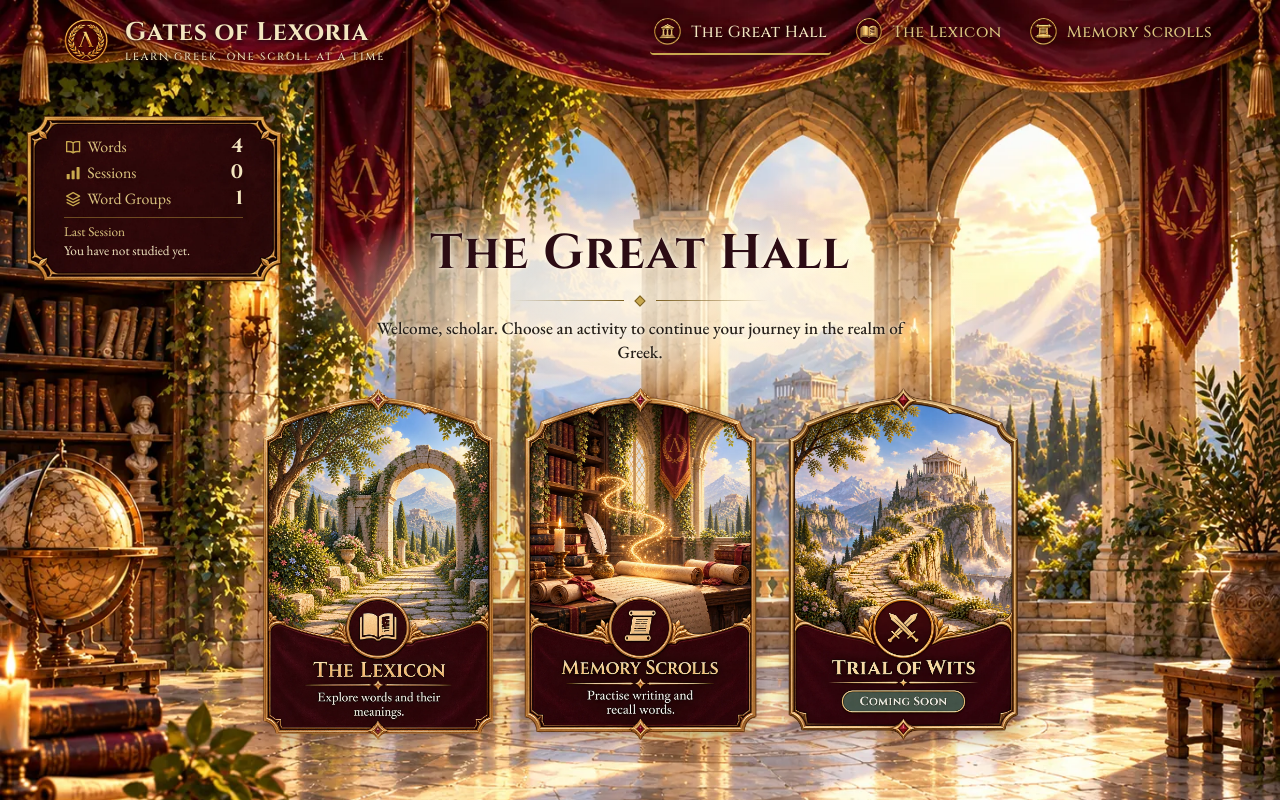
it: focus after navigation › moves focus to the new page heading when a link is clicked
Click the link "The Lexicon".
click(928, 32)  # box left=856, top=18, right=1002, bottom=45
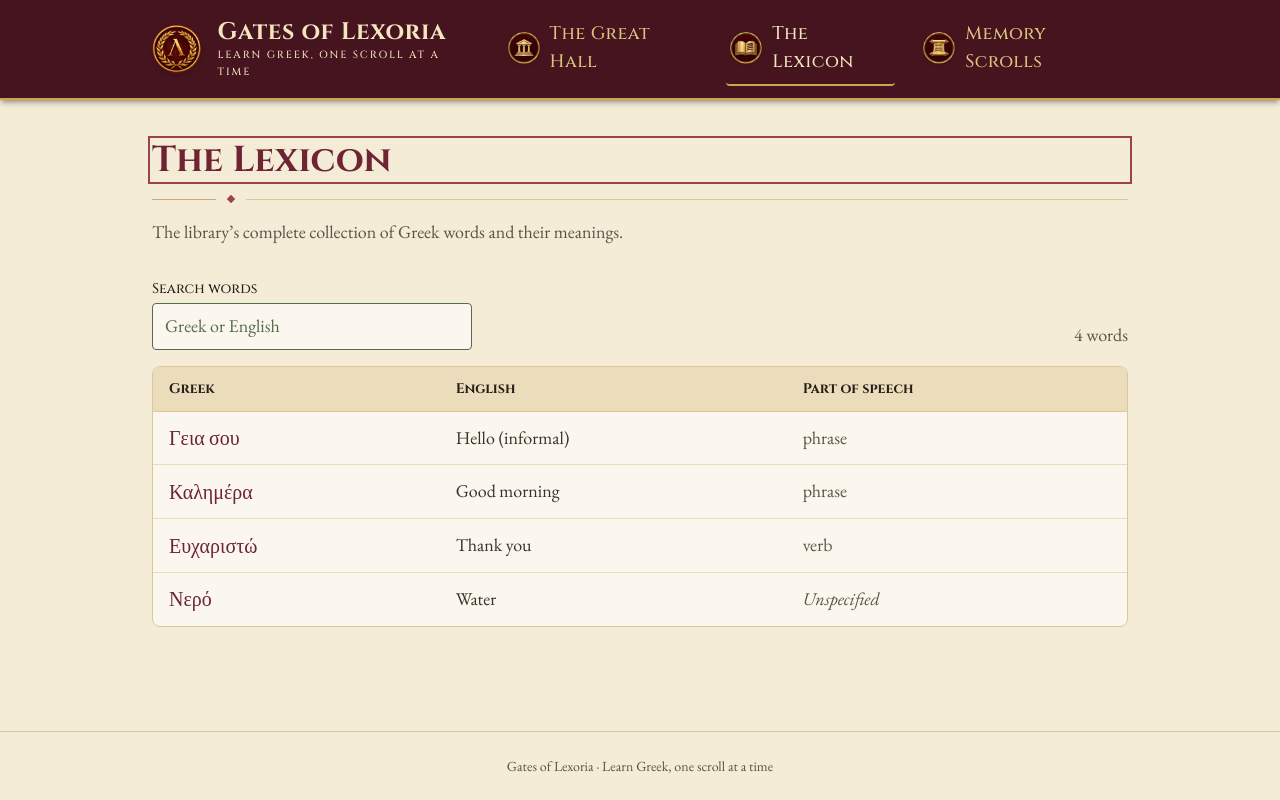
Result: the heading reads "The Lexicon" at left=152, top=136, right=391, bottom=184
